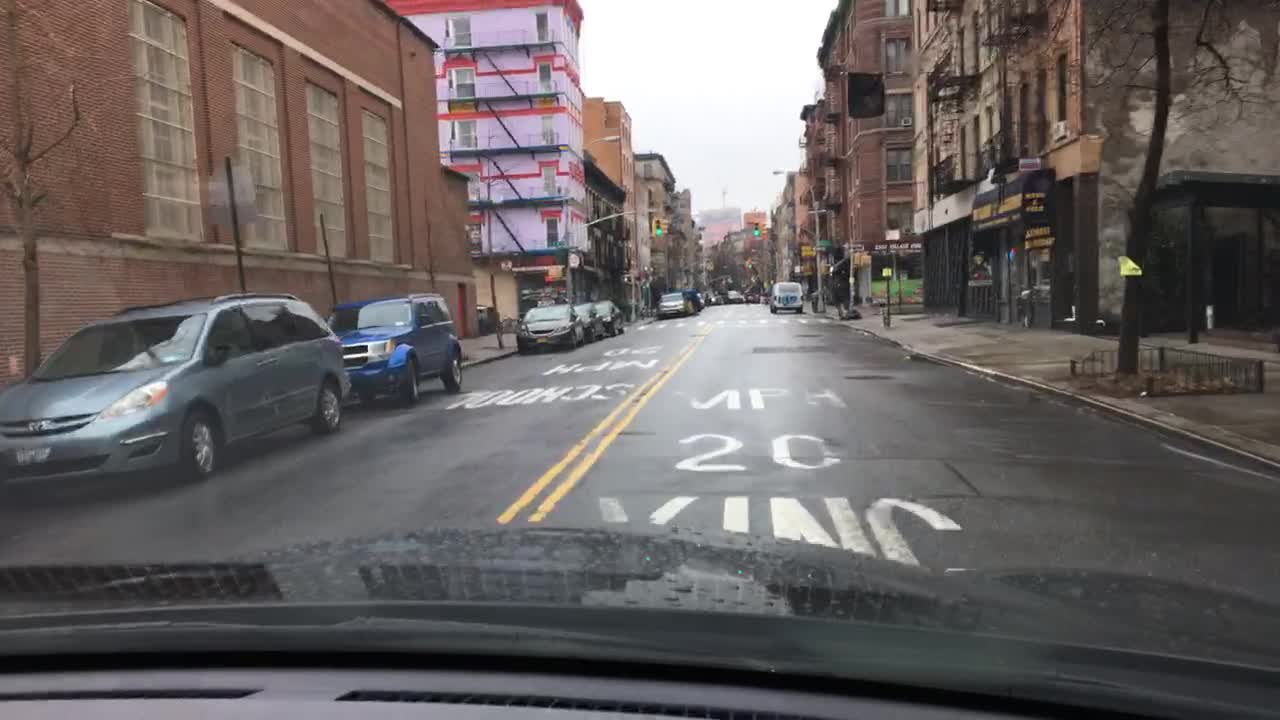car: (0, 288, 351, 483), (326, 291, 461, 403), (515, 301, 586, 353), (571, 302, 606, 342), (767, 281, 803, 313), (652, 291, 694, 318), (594, 299, 624, 335), (686, 286, 706, 307), (726, 289, 742, 303), (706, 293, 722, 303), (756, 294, 768, 305), (746, 291, 756, 302)
traffic light: (653, 218, 660, 235), (660, 218, 667, 235), (752, 220, 759, 236), (759, 220, 766, 236)
traffic sign: (208, 168, 256, 223), (568, 253, 584, 269), (548, 266, 563, 277), (884, 229, 899, 240), (817, 240, 832, 250), (800, 245, 814, 255), (881, 268, 891, 276)
